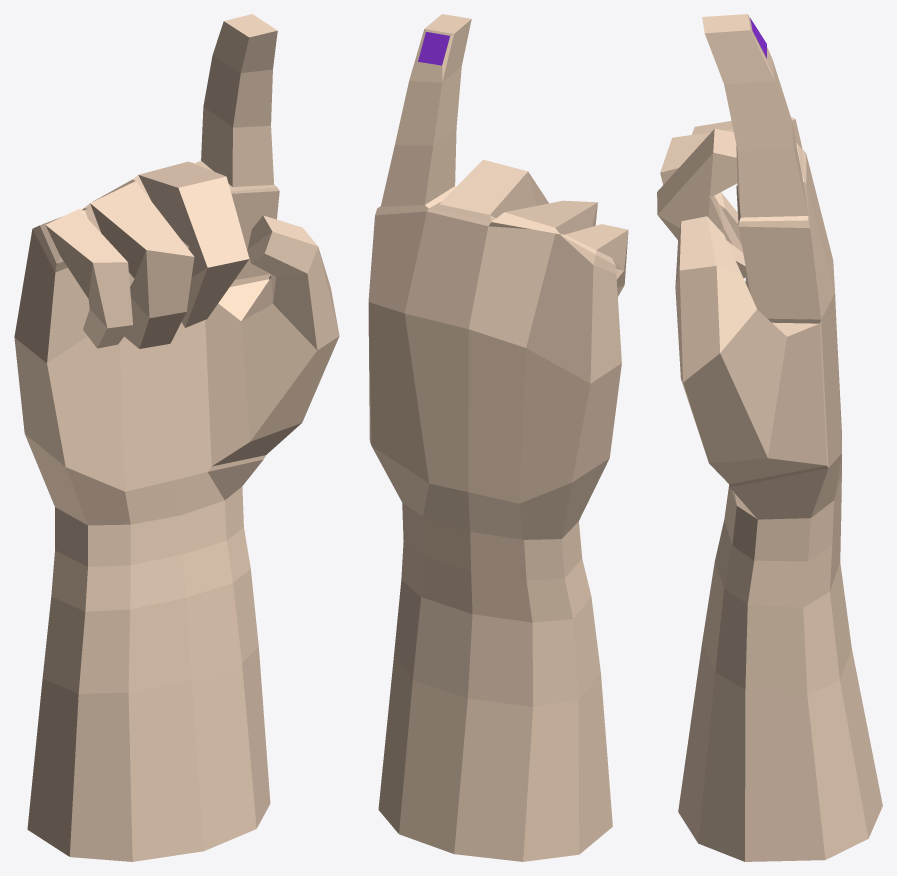
File: fin)Hand_R_____________________.fbx
3 views of the same model, side by side, from view 1: azimuth 30°, elevation 25°; view 2: azimuth 150°, elevation 25°; view 3: azimuth 270°, elevation 25° (orthographic). The views are drawn at different scales.
Visible parts, largest first — view 1: Player_R; view 2: Player_R; view 3: Player_R.
Boxes of the visible parts, x1,y1,x2,y2 form: Player_R: (14, 14, 339, 861); Player_R: (368, 14, 628, 861); Player_R: (657, 14, 882, 861).
Size of the model in its own units: 0.317 by 0.8897 by 0.2208.
